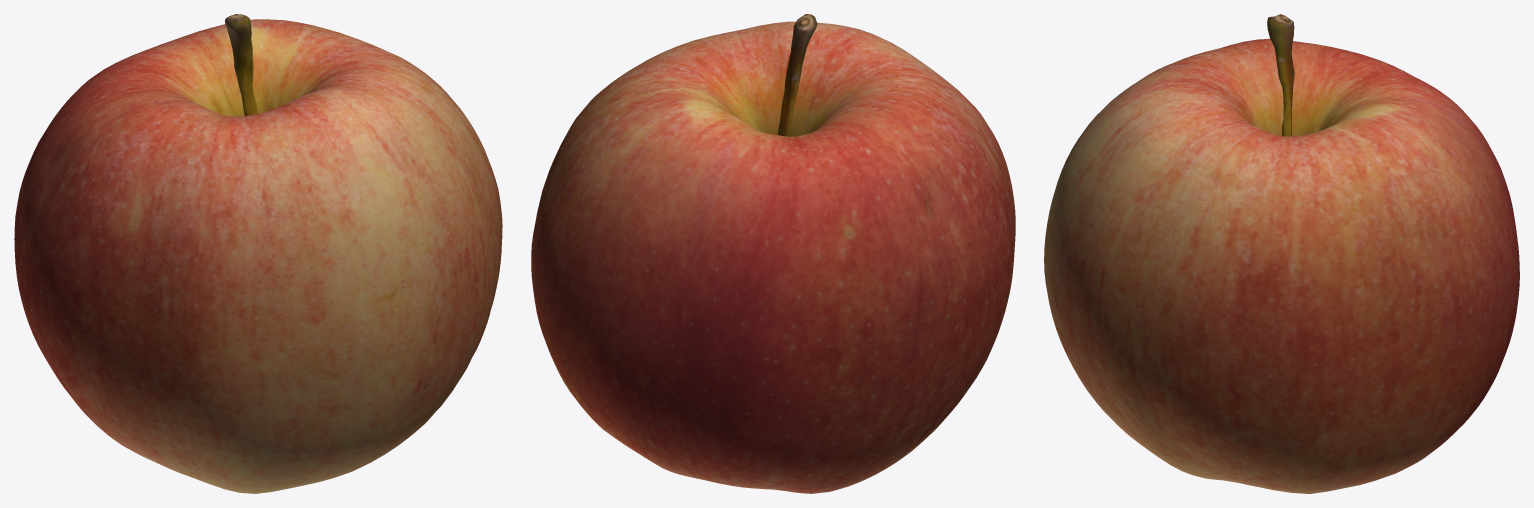
Rendered from Apple.fbx.
3 renders of one model, left to right at view 1: azimuth 30°, elevation 25°; view 2: azimuth 150°, elevation 25°; view 3: azimuth 270°, elevation 25°, orthographic. The views are drawn at different scales.
Parts seen in each view (by area): view 1: Object_2; view 2: Object_2; view 3: Object_2.
Part boxes in pixels (x1=…): Object_2: x1=14, y1=14, x2=502, y2=493; Object_2: x1=531, y1=14, x2=1015, y2=493; Object_2: x1=1044, y1=14, x2=1519, y2=493.
Size of the model in its own units: 2026 by 2023 by 2017.
Materials: 1 (1 with a texture image).
